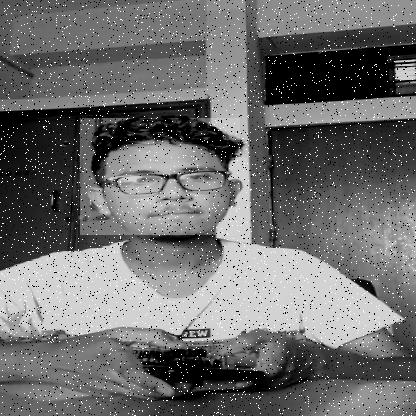Normal: (80, 118, 240, 235)
